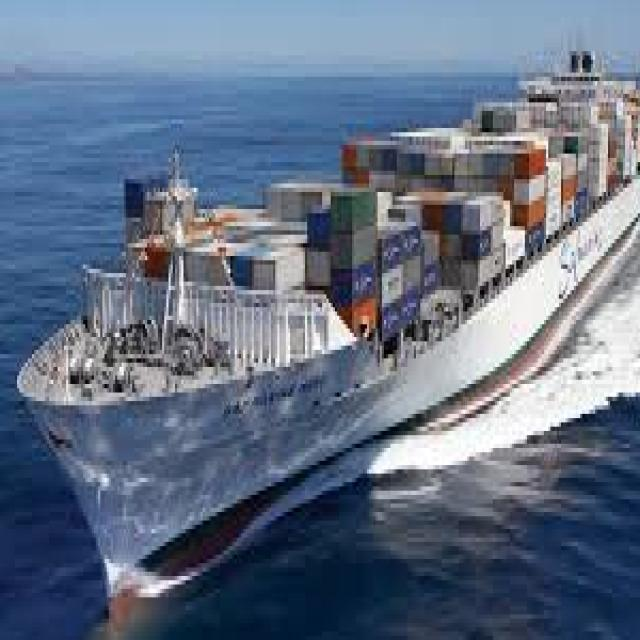cargoship: (15, 47, 640, 576)
